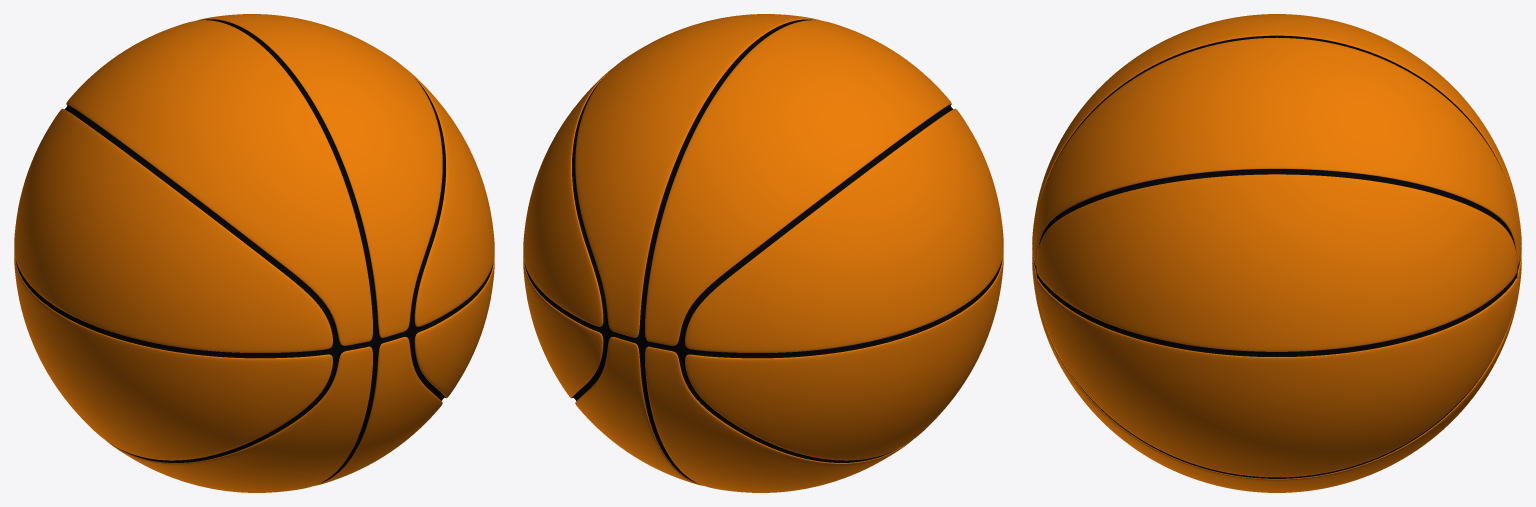
Rendered from Ball.fbx.
The picture shows the model from 3 angles, left to right: view 1: azimuth 30°, elevation 25°; view 2: azimuth 150°, elevation 25°; view 3: azimuth 270°, elevation 25°; orthographic projection.
Parts seen in each view (by area): view 1: basketball:basketball; view 2: basketball:basketball; view 3: basketball:basketball.
Boxes of the visible parts, x1,y1,x2,y2 form: basketball:basketball: [14, 14, 494, 492]; basketball:basketball: [523, 14, 1003, 492]; basketball:basketball: [1032, 14, 1521, 492].
Size of the model in its own units: 13.79 by 13.79 by 14.08.
